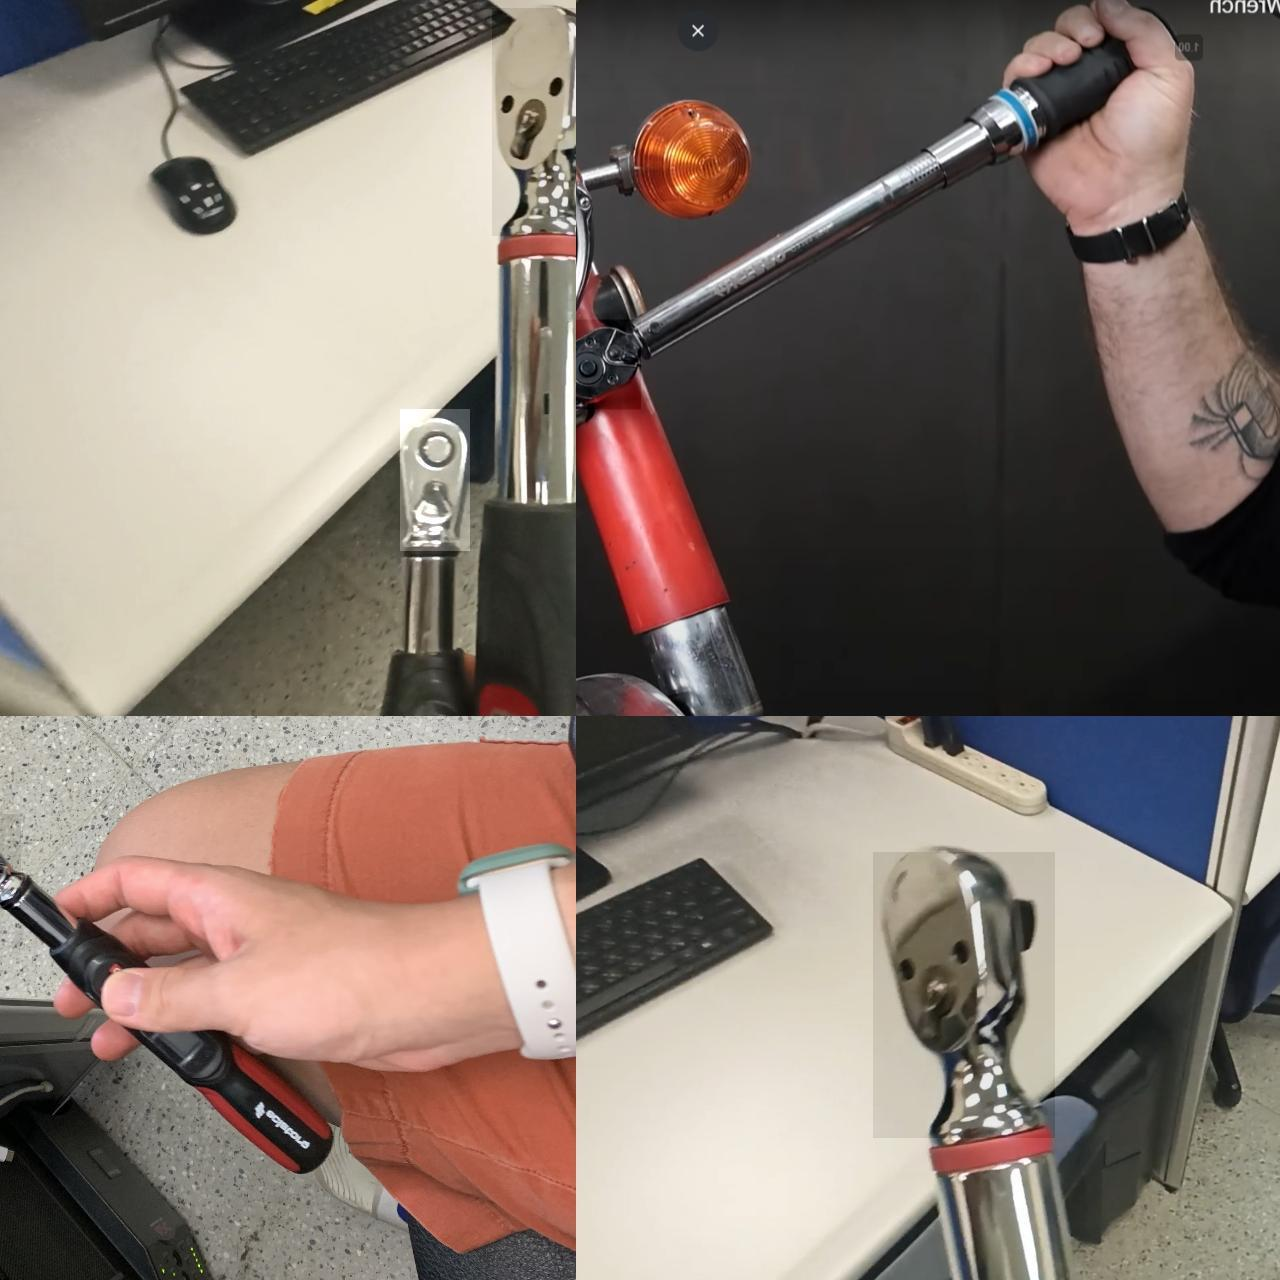Tool: (873, 852, 1055, 1138), (492, 8, 576, 236), (400, 409, 470, 551), (576, 319, 641, 409), (0, 813, 21, 910)
